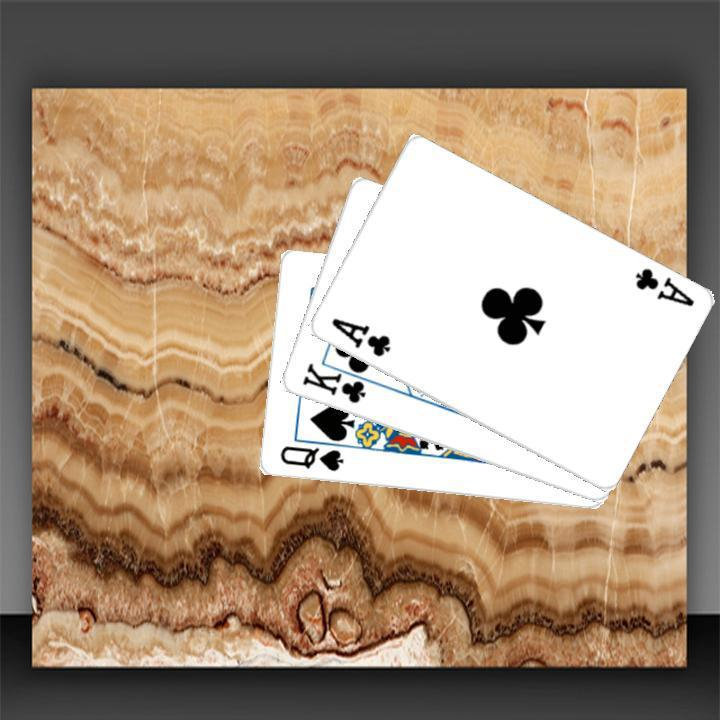A: (326, 313, 392, 359), (630, 263, 696, 309)
K: (297, 356, 379, 406)
Q: (275, 442, 345, 474)
